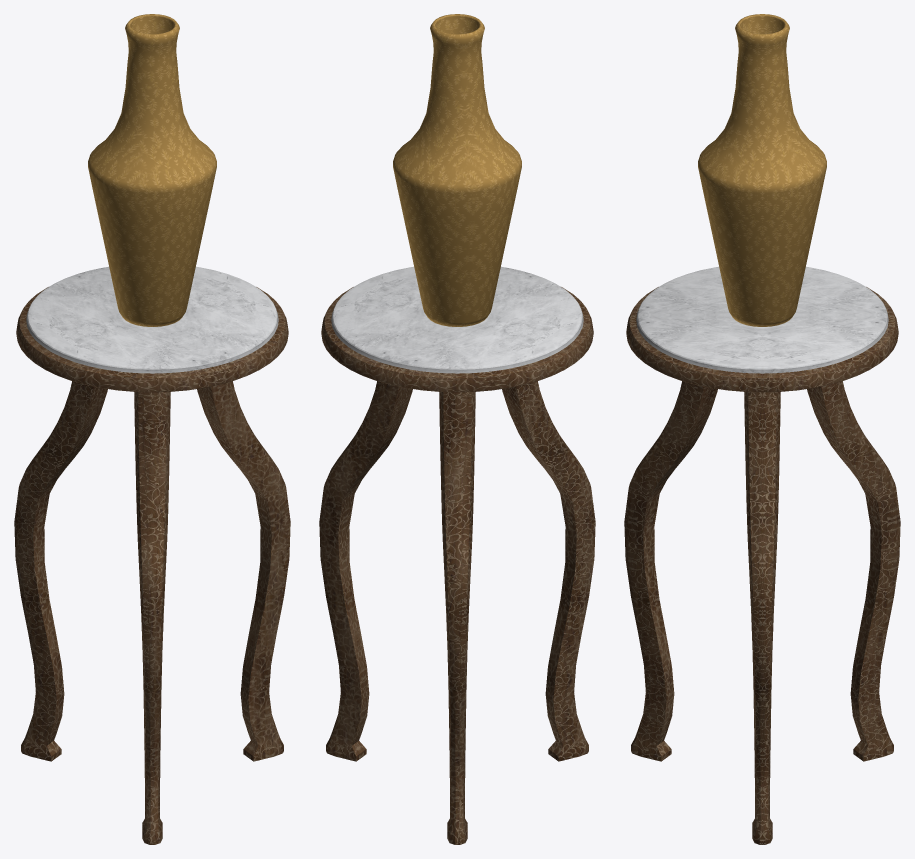
Rendered from Pot.glb.
3 renders of one model, left to right at view 1: azimuth 30°, elevation 25°; view 2: azimuth 150°, elevation 25°; view 3: azimuth 270°, elevation 25°, orthographic.
Visible parts, largest first — view 1: Furnit_1, Amphore_0; view 2: Furnit_1, Amphore_0; view 3: Furnit_1, Amphore_0.
Part boxes in pixels (x1,y1,x2,y2): Furnit_1: (14, 266, 290, 844); Amphore_0: (88, 14, 216, 326); Furnit_1: (319, 266, 595, 844); Amphore_0: (393, 14, 521, 326); Furnit_1: (624, 266, 900, 844); Amphore_0: (698, 14, 826, 326).
Bounding box in the file's own units: 0.4314 × 1.23 × 0.4061.
Materials: 2 (2 with a texture image).
